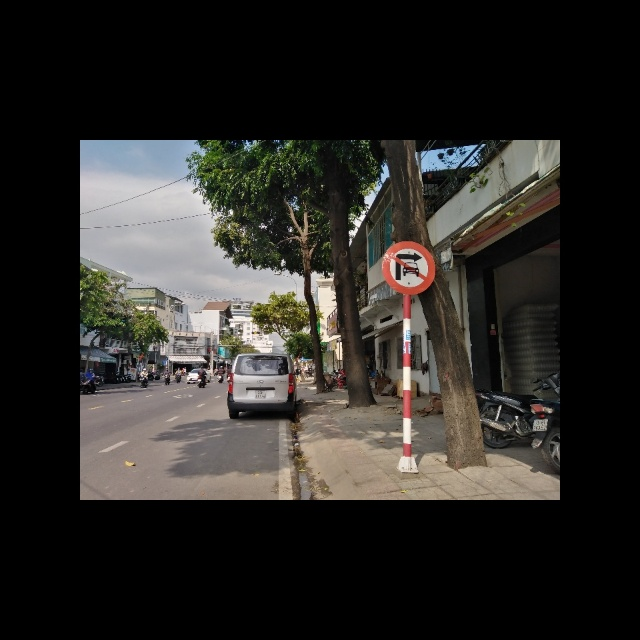Cấm xe ô tô rẽ trái: (380, 239, 438, 299)
